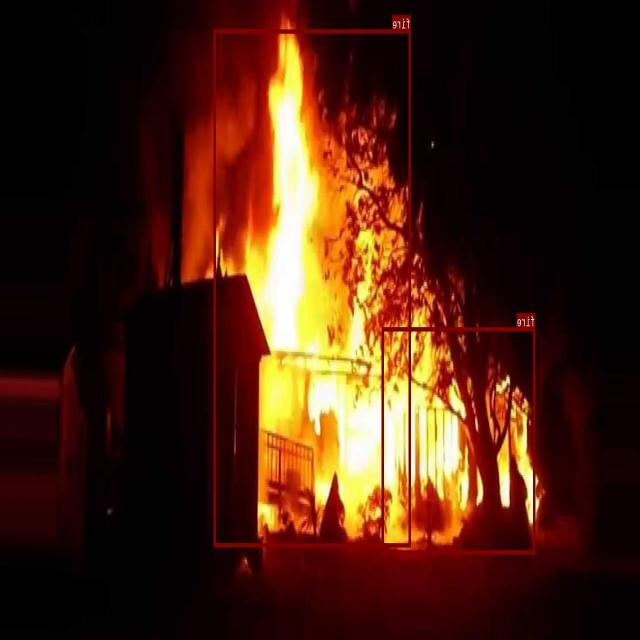fire: (214, 29, 411, 546), (382, 326, 536, 554)
